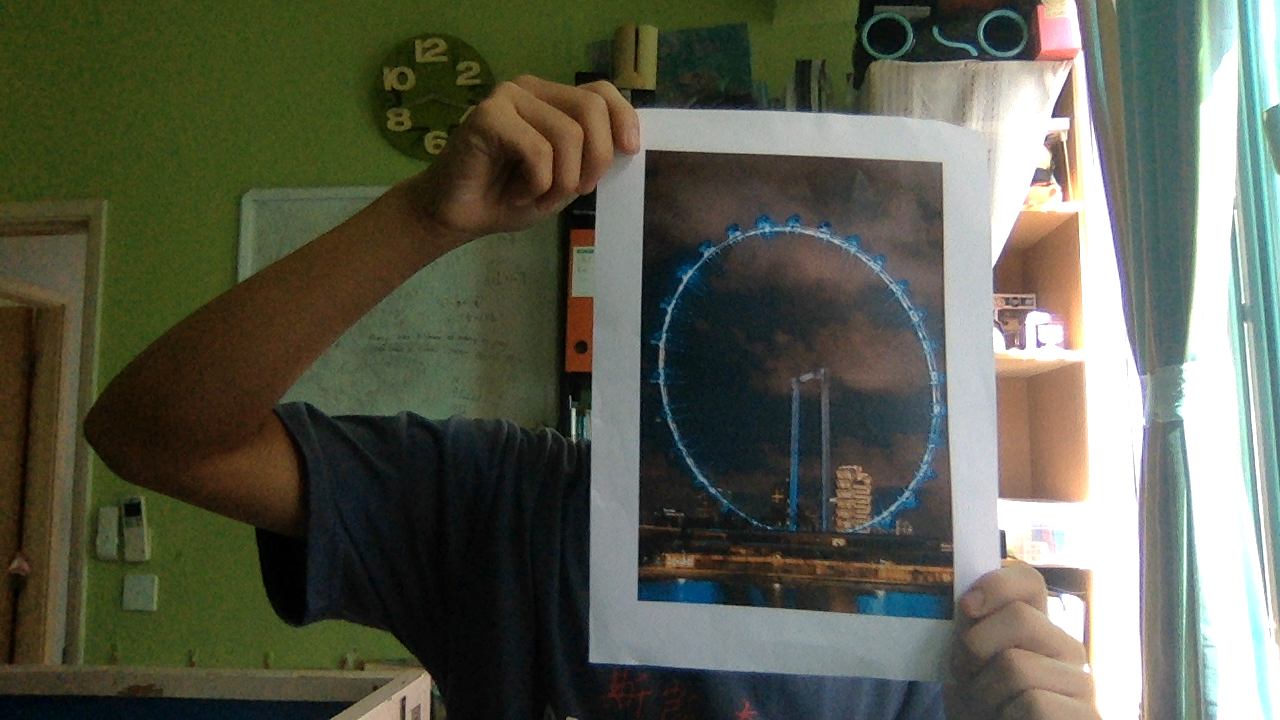Flyer: (641, 141, 960, 625)
